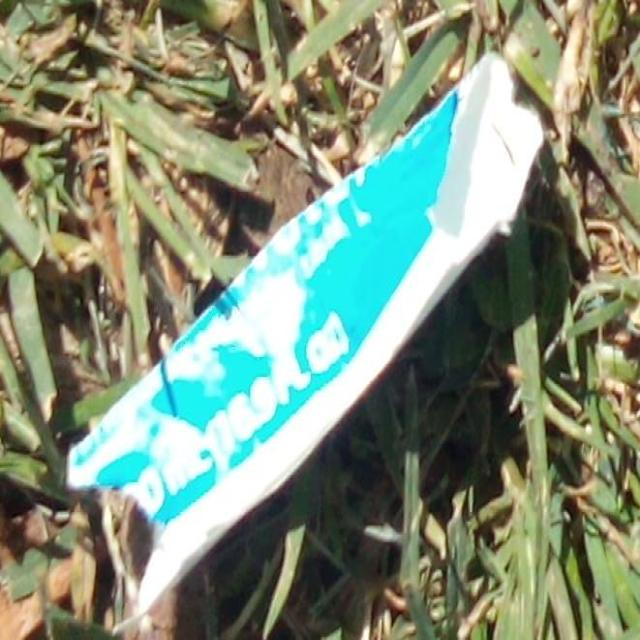litter: (71, 54, 544, 627)
